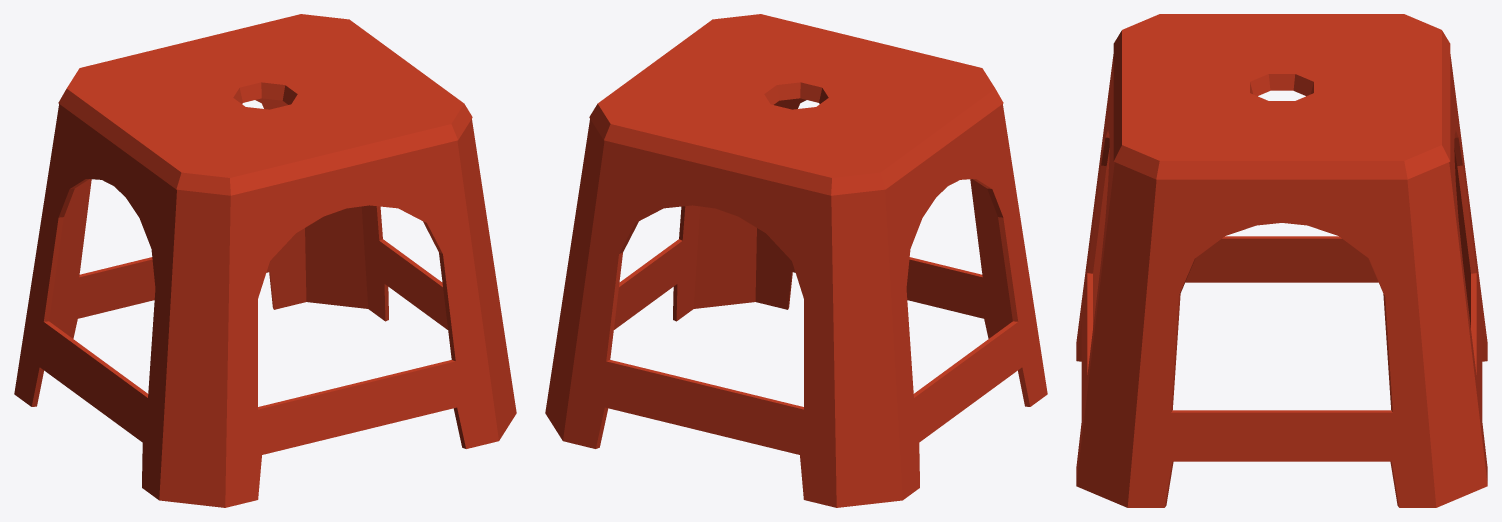
The model's file is SM_Furniture_StoolLow_Red_01.glb.
3 renders of one model, left to right at view 1: azimuth 30°, elevation 25°; view 2: azimuth 150°, elevation 25°; view 3: azimuth 270°, elevation 25°, orthographic. The views are drawn at different scales.
Parts seen in each view (by area): view 1: SM_Furniture_StoolLow_Red_01; view 2: SM_Furniture_StoolLow_Red_01; view 3: SM_Furniture_StoolLow_Red_01.
Boxes of the visible parts, x1=… form: SM_Furniture_StoolLow_Red_01: x1=14, y1=14, x2=516, y2=507; SM_Furniture_StoolLow_Red_01: x1=545, y1=14, x2=1047, y2=507; SM_Furniture_StoolLow_Red_01: x1=1076, y1=14, x2=1487, y2=507.
Bounding box in the file's own units: 0.316 × 0.26 × 0.296.
Materials: 1 (1 with a texture image).
